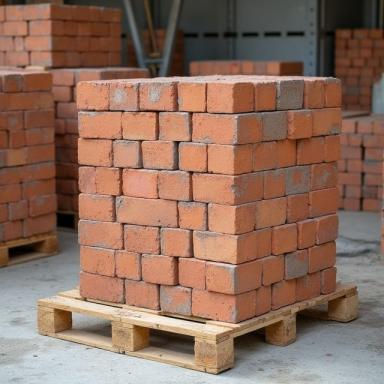pallet: (37, 282, 358, 375), (0, 230, 58, 268), (57, 312, 111, 338), (149, 328, 194, 355), (8, 243, 35, 260)
